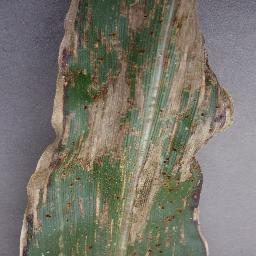Gray_Leaf_Spot: (51, 0, 208, 142), (115, 143, 187, 256), (18, 143, 54, 256), (208, 63, 240, 140), (188, 144, 206, 256), (54, 144, 114, 175), (94, 195, 114, 256), (59, 232, 92, 256), (74, 176, 114, 190), (63, 175, 75, 219), (77, 194, 87, 218)
